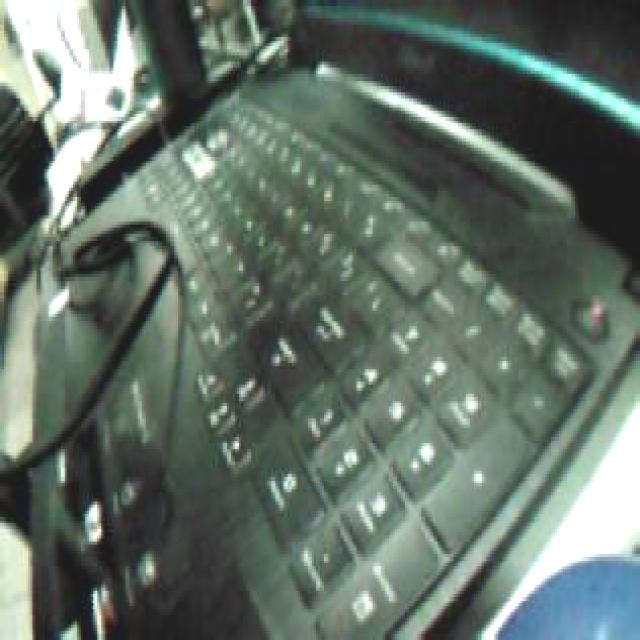BallPurple: (492, 549, 640, 640)
